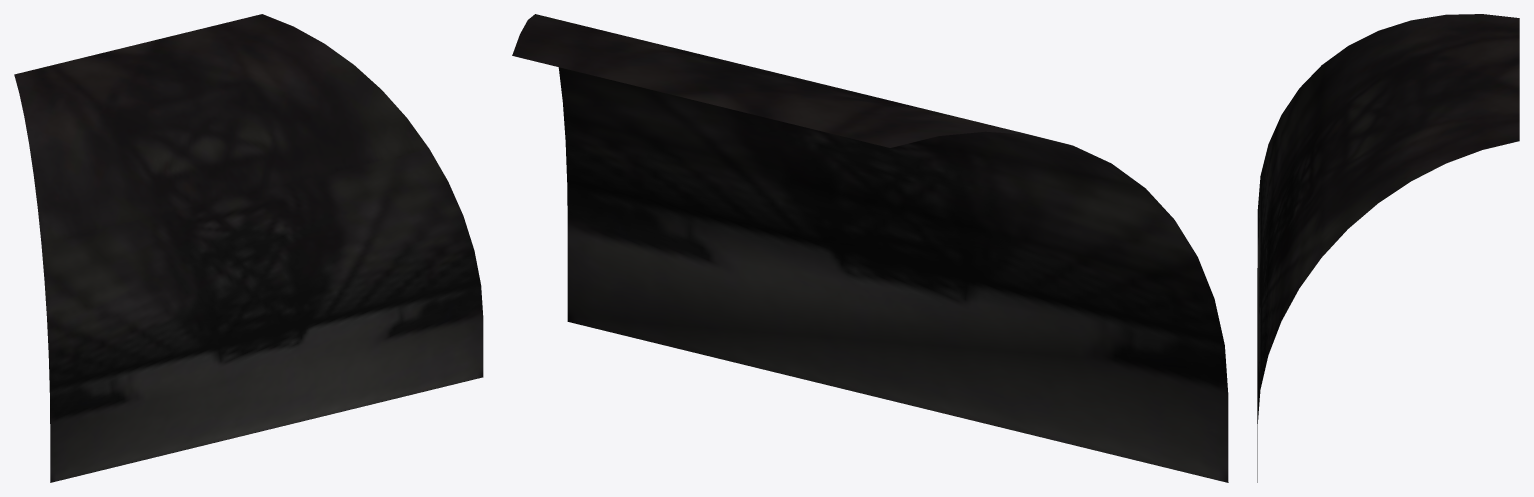
File: ARC0610016.fbx
3 views of the same model, side by side, from view 1: azimuth 30°, elevation 25°; view 2: azimuth 150°, elevation 25°; view 3: azimuth 270°, elevation 25° (orthographic). The views are drawn at different scales.
Visible parts, largest first — view 1: smARC0610016; view 2: smARC0610016; view 3: smARC0610016.
Part boxes in pixels (left/top/right/bottom): smARC0610016: left=14, top=14, right=483, bottom=482; smARC0610016: left=512, top=14, right=1228, bottom=482; smARC0610016: left=1257, top=14, right=1519, bottom=482.
Bounding box in the file's own units: 1714 × 1100 × 884.
Materials: 1 (1 with a texture image).
